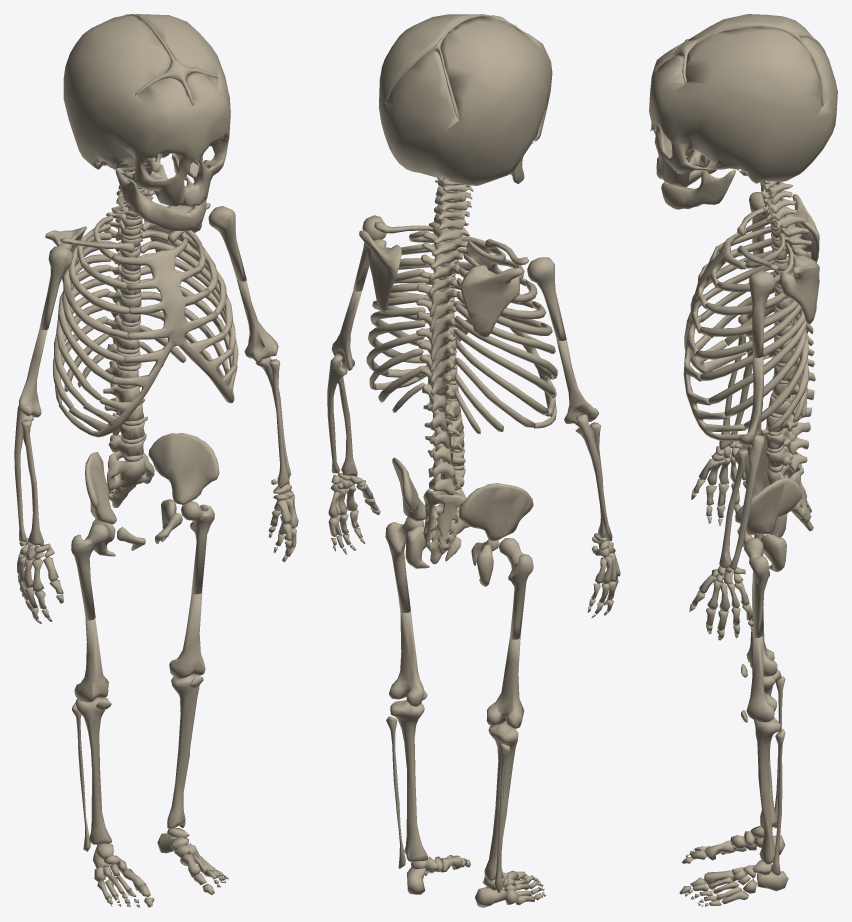
File: pediatric_infant_female.skeletal.LOD2.glb
3 renders of one model, left to right at view 1: azimuth 30°, elevation 25°; view 2: azimuth 150°, elevation 25°; view 3: azimuth 270°, elevation 25°, orthographic. The views are drawn at different scales.
Visible parts, largest first — view 1: PEDIATRIC.INFANT.FEMALE.SKELETAL.CRANIUM_CORTICAL, PEDIATRIC.INFANT.FEMALE.SKELETAL.RIBS_CORTICAL, PEDIATRIC.INFANT.FEMALE.SKELETAL.CARTILAGE_TRUNK, PEDIATRIC.INFANT.FEMALE.SKELETAL.PELVIS_CORTICAL, PEDIATRIC.INFANT.FEMALE.SKELETAL.TIBIAE_CORTICAL, PEDIATRIC.INFANT.FEMALE.SKELETAL.ANKLES_AND_FOOT_CORTICAL, PEDIATRIC.INFANT.FEMALE.SKELETAL.WRISTS_AND_HAND_BONES_CORTI, PEDIATRIC.INFANT.FEMALE.SKELETAL.FEMORA_LOWER_CORTICAL, PEDIATRIC.INFANT.FEMALE.SKELETAL.FEMORA_UPPER_CORTICAL, PEDIATRIC.INFANT.FEMALE.SKELETAL.THORACIC_SPINE_CORTICAL, PEDIATRIC.INFANT.FEMALE.SKELETAL.HUMERI_LOWER_CORTICAL, PEDIATRIC.INFANT.FEMALE.SKELETAL.HUMERI_UPPER_CORTICAL (+9 smaller); view 2: PEDIATRIC.INFANT.FEMALE.SKELETAL.CRANIUM_CORTICAL, PEDIATRIC.INFANT.FEMALE.SKELETAL.RIBS_CORTICAL, PEDIATRIC.INFANT.FEMALE.SKELETAL.PELVIS_CORTICAL, PEDIATRIC.INFANT.FEMALE.SKELETAL.THORACIC_SPINE_CORTICAL, PEDIATRIC.INFANT.FEMALE.SKELETAL.SCAPULAE_CORTICAL, PEDIATRIC.INFANT.FEMALE.SKELETAL.TIBIAE_CORTICAL, PEDIATRIC.INFANT.FEMALE.SKELETAL.WRISTS_AND_HAND_BONES_CORTI, PEDIATRIC.INFANT.FEMALE.SKELETAL.FEMORA_LOWER_CORTICAL, PEDIATRIC.INFANT.FEMALE.SKELETAL.CARTILAGE_TRUNK, PEDIATRIC.INFANT.FEMALE.SKELETAL.FEMORA_UPPER_CORTICAL, PEDIATRIC.INFANT.FEMALE.SKELETAL.LUMBAR_SPINE_CORTICAL, PEDIATRIC.INFANT.FEMALE.SKELETAL.ANKLES_AND_FOOT_CORTICAL (+9 smaller); view 3: PEDIATRIC.INFANT.FEMALE.SKELETAL.CRANIUM_CORTICAL, PEDIATRIC.INFANT.FEMALE.SKELETAL.RIBS_CORTICAL, PEDIATRIC.INFANT.FEMALE.SKELETAL.CARTILAGE_TRUNK, PEDIATRIC.INFANT.FEMALE.SKELETAL.WRISTS_AND_HAND_BONES_CORTI, PEDIATRIC.INFANT.FEMALE.SKELETAL.ANKLES_AND_FOOT_CORTICAL, PEDIATRIC.INFANT.FEMALE.SKELETAL.PELVIS_CORTICAL, PEDIATRIC.INFANT.FEMALE.SKELETAL.SCAPULAE_CORTICAL, PEDIATRIC.INFANT.FEMALE.SKELETAL.TIBIAE_CORTICAL, PEDIATRIC.INFANT.FEMALE.SKELETAL.LUMBAR_SPINE_CORTICAL, PEDIATRIC.INFANT.FEMALE.SKELETAL.FEMORA_LOWER_CORTICAL, PEDIATRIC.INFANT.FEMALE.SKELETAL.THORACIC_SPINE_CORTICAL, PEDIATRIC.INFANT.FEMALE.SKELETAL.MANDIBLE_CORTICAL (+10 smaller).
Boxes of the visible parts, x1,y1,x2,y2 form: PEDIATRIC.INFANT.FEMALE.SKELETAL.CRANIUM_CORTICAL: (63, 14, 230, 207); PEDIATRIC.INFANT.FEMALE.SKELETAL.RIBS_CORTICAL: (53, 216, 238, 408); PEDIATRIC.INFANT.FEMALE.SKELETAL.CARTILAGE_TRUNK: (58, 186, 237, 461); PEDIATRIC.INFANT.FEMALE.SKELETAL.PELVIS_CORTICAL: (85, 433, 219, 556); PEDIATRIC.INFANT.FEMALE.SKELETAL.TIBIAE_CORTICAL: (75, 674, 199, 844); PEDIATRIC.INFANT.FEMALE.SKELETAL.ANKLES_AND_FOOT_CORTICAL: (93, 828, 228, 907); PEDIATRIC.INFANT.FEMALE.SKELETAL.WRISTS_AND_HAND_BONES_CORTI: (17, 478, 298, 624); PEDIATRIC.INFANT.FEMALE.SKELETAL.FEMORA_LOWER_CORTICAL: (74, 592, 205, 702); PEDIATRIC.INFANT.FEMALE.SKELETAL.FEMORA_UPPER_CORTICAL: (71, 501, 214, 620); PEDIATRIC.INFANT.FEMALE.SKELETAL.THORACIC_SPINE_CORTICAL: (104, 211, 142, 366); PEDIATRIC.INFANT.FEMALE.SKELETAL.HUMERI_LOWER_CORTICAL: (19, 280, 278, 417); PEDIATRIC.INFANT.FEMALE.SKELETAL.HUMERI_UPPER_CORTICAL: (39, 206, 246, 329); PEDIATRIC.INFANT.FEMALE.SKELETAL.CRANIUM_CORTICAL: (379, 14, 552, 185); PEDIATRIC.INFANT.FEMALE.SKELETAL.RIBS_CORTICAL: (366, 230, 557, 434); PEDIATRIC.INFANT.FEMALE.SKELETAL.PELVIS_CORTICAL: (392, 457, 533, 586); PEDIATRIC.INFANT.FEMALE.SKELETAL.THORACIC_SPINE_CORTICAL: (416, 231, 467, 412); PEDIATRIC.INFANT.FEMALE.SKELETAL.SCAPULAE_CORTICAL: (359, 230, 522, 337); PEDIATRIC.INFANT.FEMALE.SKELETAL.TIBIAE_CORTICAL: (390, 700, 518, 881); PEDIATRIC.INFANT.FEMALE.SKELETAL.WRISTS_AND_HAND_BONES_CORTI: (328, 473, 620, 618); PEDIATRIC.INFANT.FEMALE.SKELETAL.FEMORA_LOWER_CORTICAL: (389, 611, 524, 728); PEDIATRIC.INFANT.FEMALE.SKELETAL.CARTILAGE_TRUNK: (375, 190, 557, 490); PEDIATRIC.INFANT.FEMALE.SKELETAL.FEMORA_UPPER_CORTICAL: (385, 517, 533, 639); PEDIATRIC.INFANT.FEMALE.SKELETAL.LUMBAR_SPINE_CORTICAL: (423, 400, 465, 495); PEDIATRIC.INFANT.FEMALE.SKELETAL.ANKLES_AND_FOOT_CORTICAL: (407, 855, 546, 907); PEDIATRIC.INFANT.FEMALE.SKELETAL.CRANIUM_CORTICAL: (649, 14, 837, 186); PEDIATRIC.INFANT.FEMALE.SKELETAL.RIBS_CORTICAL: (695, 218, 809, 432); PEDIATRIC.INFANT.FEMALE.SKELETAL.CARTILAGE_TRUNK: (683, 183, 790, 472); PEDIATRIC.INFANT.FEMALE.SKELETAL.WRISTS_AND_HAND_BONES_CORTI: (689, 441, 753, 640); PEDIATRIC.INFANT.FEMALE.SKELETAL.ANKLES_AND_FOOT_CORTICAL: (679, 825, 788, 907); PEDIATRIC.INFANT.FEMALE.SKELETAL.PELVIS_CORTICAL: (735, 435, 802, 571); PEDIATRIC.INFANT.FEMALE.SKELETAL.SCAPULAE_CORTICAL: (779, 194, 819, 323); PEDIATRIC.INFANT.FEMALE.SKELETAL.TIBIAE_CORTICAL: (754, 670, 781, 864); PEDIATRIC.INFANT.FEMALE.SKELETAL.LUMBAR_SPINE_CORTICAL: (765, 383, 814, 472); PEDIATRIC.INFANT.FEMALE.SKELETAL.FEMORA_LOWER_CORTICAL: (746, 584, 777, 722); PEDIATRIC.INFANT.FEMALE.SKELETAL.THORACIC_SPINE_CORTICAL: (771, 217, 815, 381); PEDIATRIC.INFANT.FEMALE.SKELETAL.MANDIBLE_CORTICAL: (661, 161, 735, 209).
Size of the model in its own units: 0.252 by 0.7559 by 0.1511.
